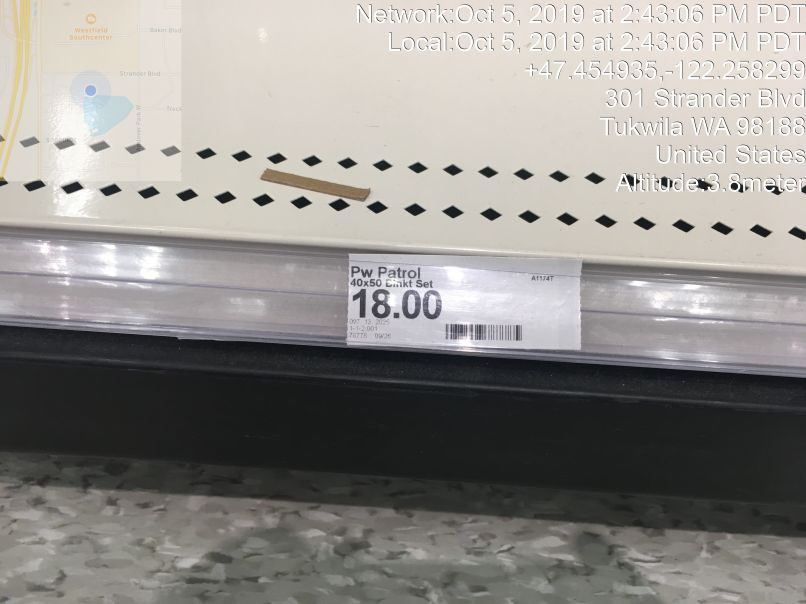Label: (342, 239, 587, 356)
Location: (598, 86, 806, 170)
Time: (345, 1, 803, 58)
Void: (16, 2, 786, 253)
